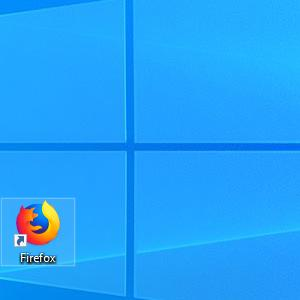firefox: (14, 199, 61, 247)
